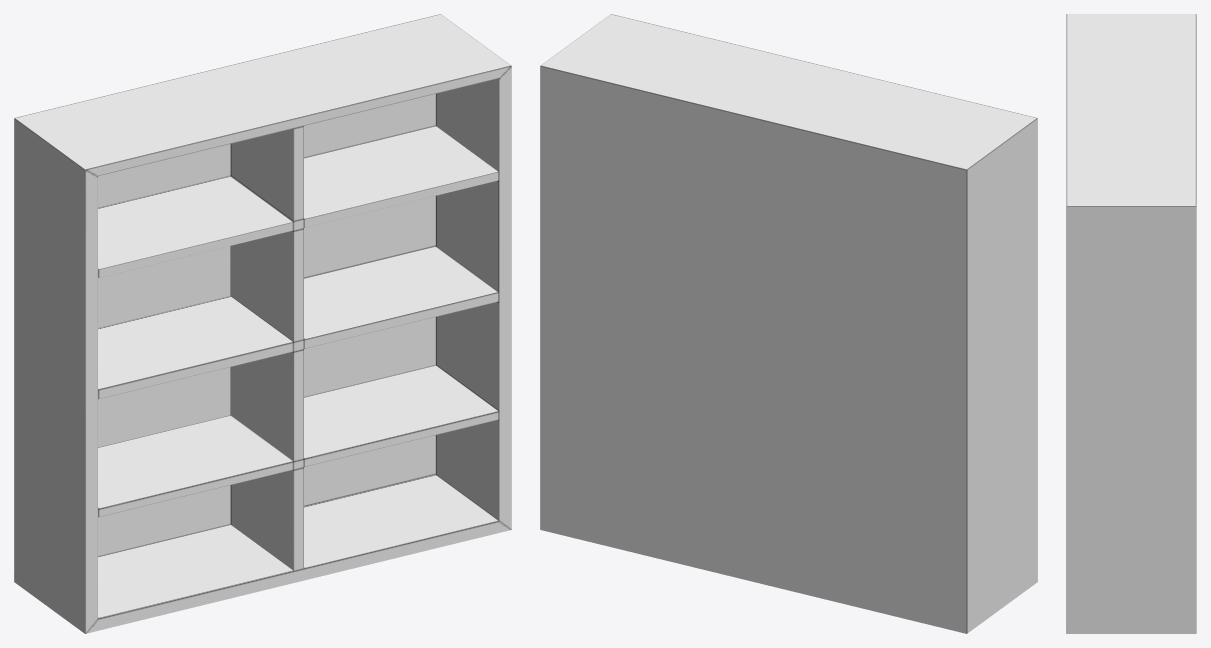
3 renders of one model, left to right at view 1: azimuth 30°, elevation 25°; view 2: azimuth 150°, elevation 25°; view 3: azimuth 270°, elevation 25°, orthographic. The views are drawn at different scales.
Parts seen in each view (by area): view 1: 书柜; view 2: 书柜; view 3: 书柜.
Boxes of the visible parts, left/top/right/bottom form: 书柜: left=14, top=14, right=511, bottom=633; 书柜: left=540, top=14, right=1037, bottom=633; 书柜: left=1066, top=14, right=1196, bottom=633.
Bounding box in the file's own units: 27.27 × 28.35 × 7.83.
